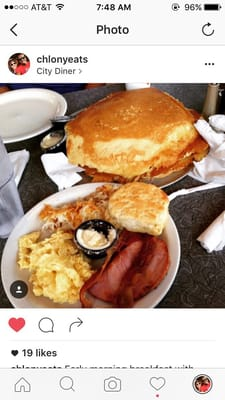soup: (5, 181, 179, 306), (64, 88, 209, 187)
